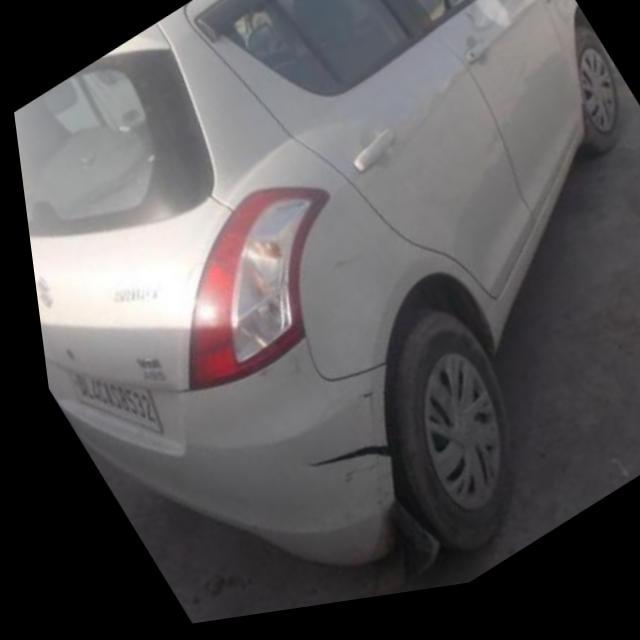crack: (289, 442, 384, 486), (349, 396, 372, 431)
